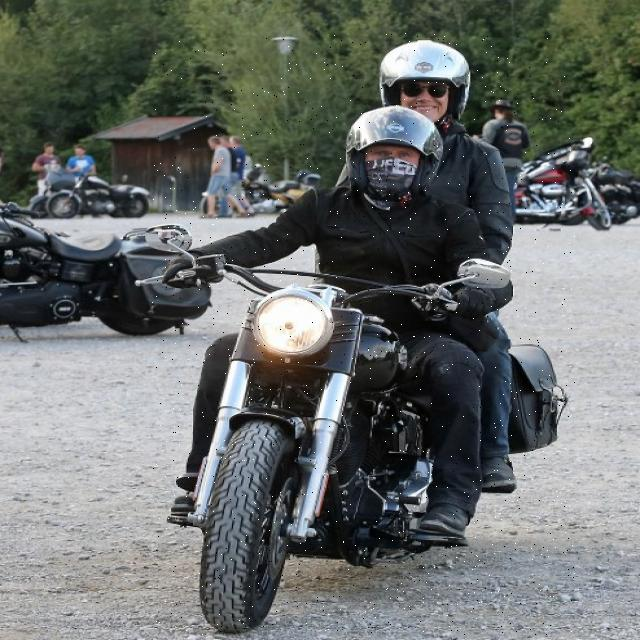With Helmet: (152, 31, 575, 635)
